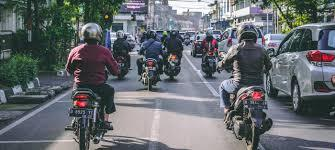helmet: (236, 21, 258, 44), (81, 22, 103, 45), (146, 29, 156, 41), (205, 28, 214, 39), (116, 30, 125, 41), (169, 30, 178, 41)
